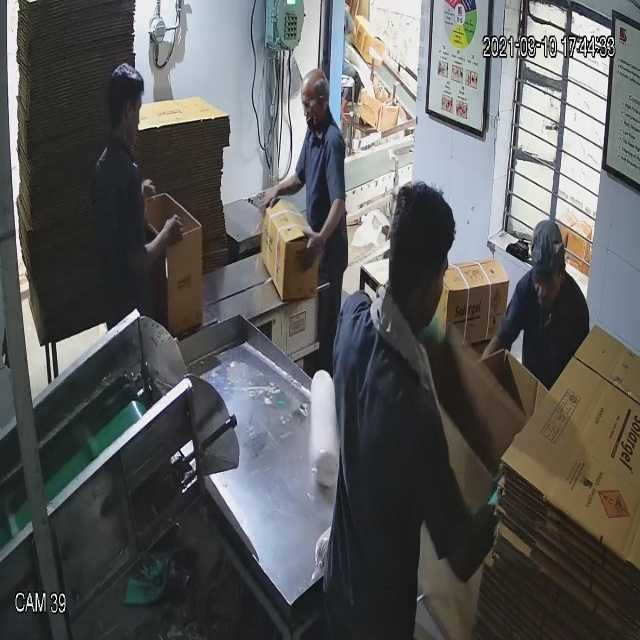Sin_guantes: (124, 208, 188, 274), (293, 195, 352, 266), (259, 171, 308, 211)
